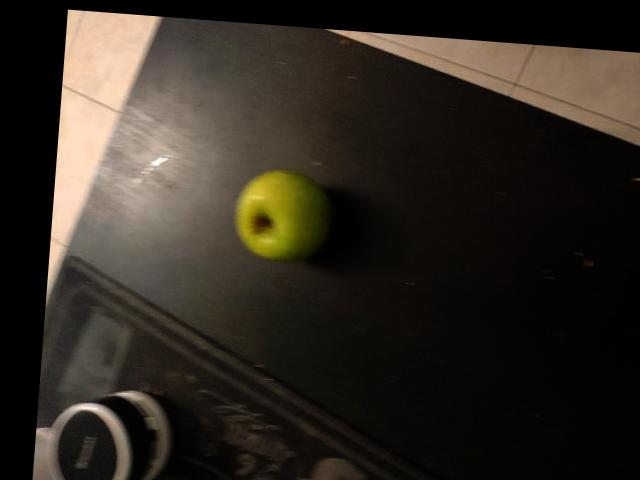apple: (181, 210, 291, 333)
